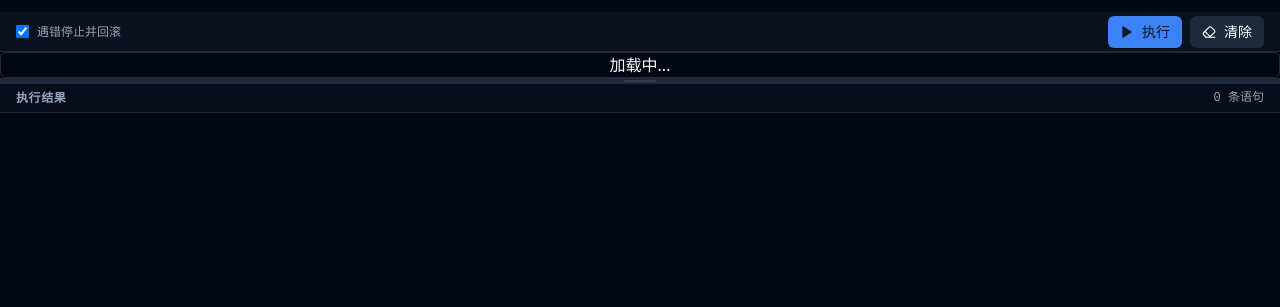
Test case: waits for a transaction outcome and sends the selected stop-on-error policy
Step 1. Click the button "执行" → (1145, 32), box [1108,16,1182,48]
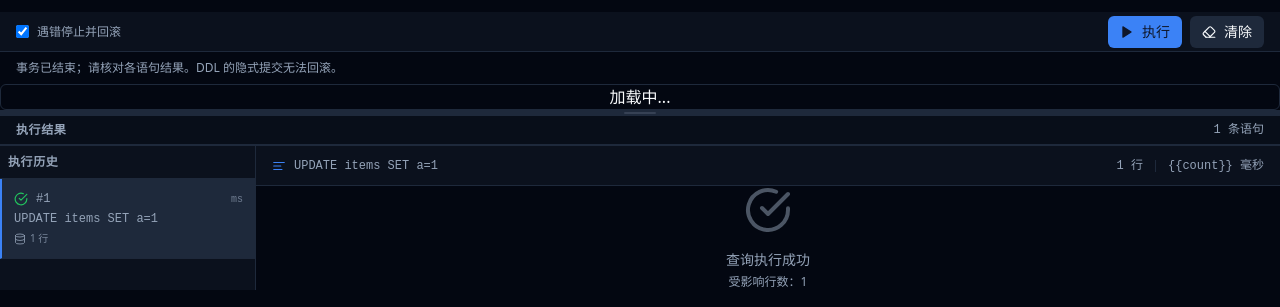
Expected: the message "事务已结束；请核对各语句结果。DDL 的隐式提交无法回滚。" is shown, [16,59,343,76]
